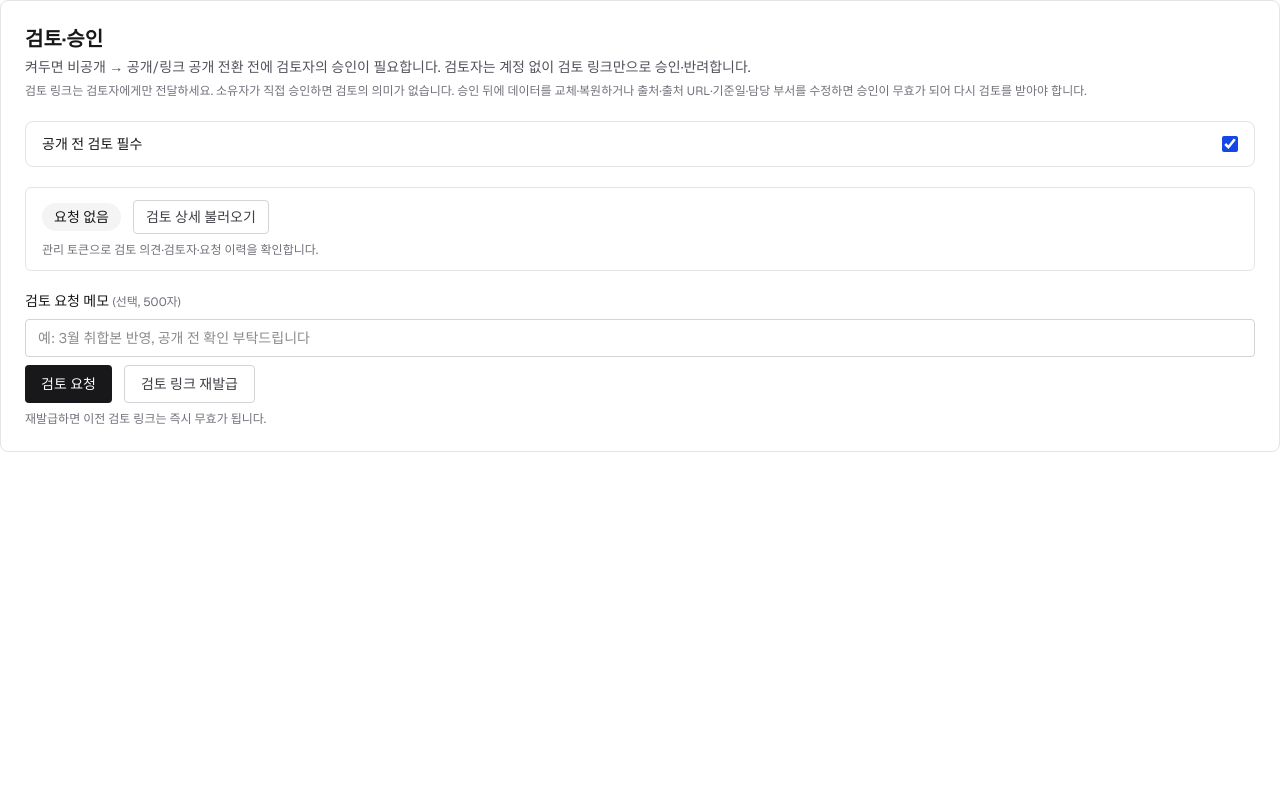
Scenario: ReviewSection › rotating the token posts rotate_token: true
Click the button "검토 링크 재발급": (189, 384) x1=124 y1=365 x2=255 y2=403
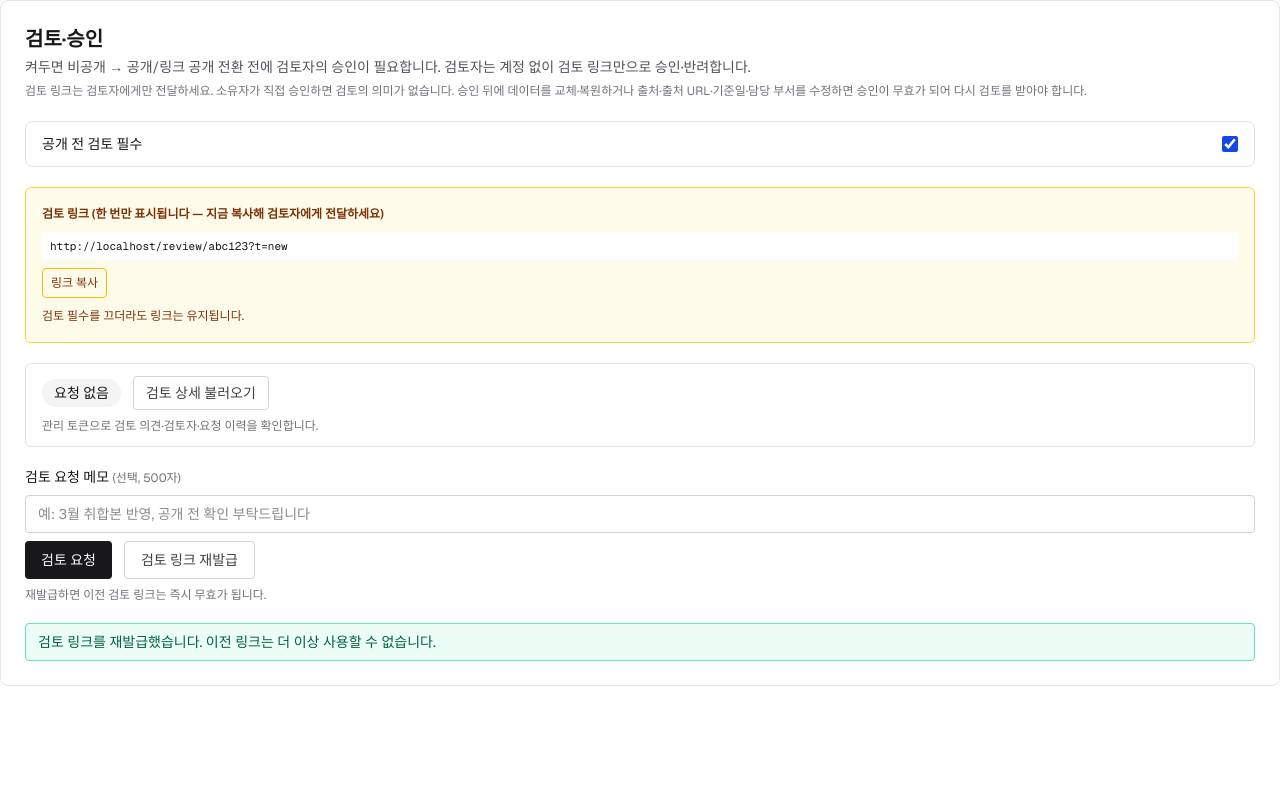
Check: the text "http://localhost/review/abc123?t=new" is shown, box x1=42 y1=232 x2=1238 y2=260
